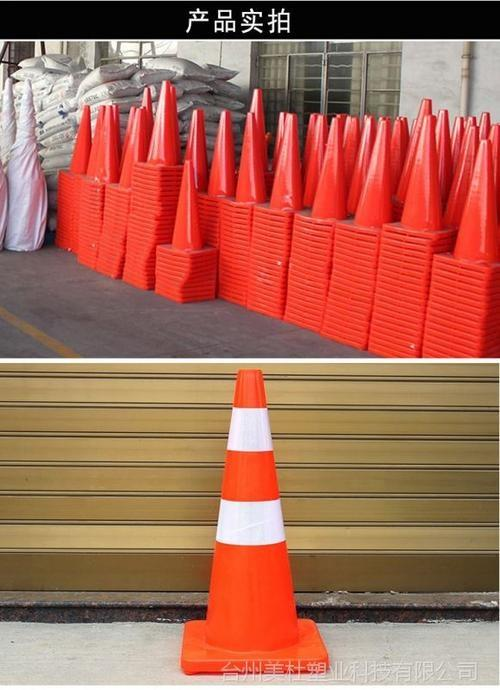cone_barrel: (190, 373, 314, 666), (448, 137, 497, 268), (396, 113, 446, 232), (351, 112, 398, 228), (230, 87, 270, 205), (310, 112, 349, 220), (267, 108, 305, 211), (165, 159, 206, 252), (147, 79, 181, 168), (206, 106, 236, 199), (90, 104, 120, 183), (181, 105, 206, 194)
